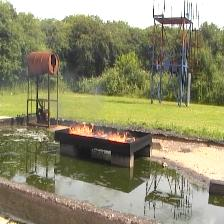fire: (105, 130, 126, 143), (68, 124, 94, 133)
